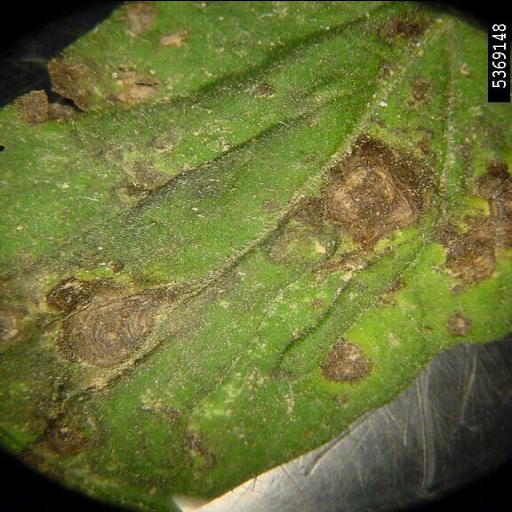disease_tomato: (2, 0, 512, 506)
